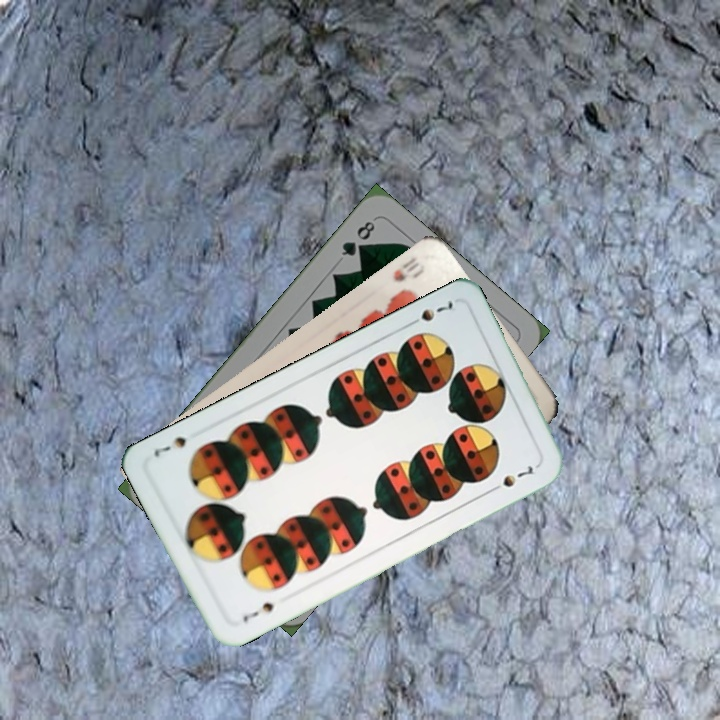G8: (337, 216, 378, 259)
H10: (389, 253, 428, 285)
S7: (403, 295, 456, 330), (239, 597, 276, 625)
